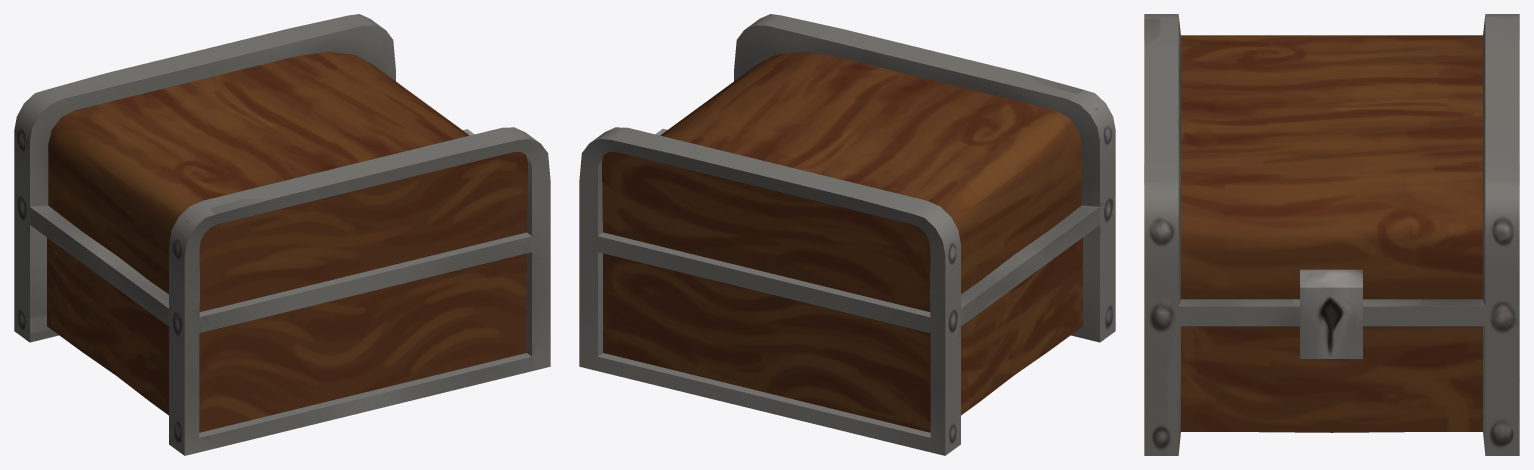
The model's file is unlocked_chest.glb.
The picture shows the model from 3 angles, left to right: view 1: azimuth 30°, elevation 25°; view 2: azimuth 150°, elevation 25°; view 3: azimuth 270°, elevation 25°; orthographic projection. The views are drawn at different scales.
Parts seen in each view (by area): view 1: low_chest; view 2: low_chest; view 3: low_chest.
Part boxes in pixels (x1,y1,x2,y2): low_chest: [14, 14, 550, 455]; low_chest: [579, 14, 1115, 455]; low_chest: [1144, 14, 1519, 455].
Size of the model in its own units: 1.17 by 0.6864 by 0.9001.
Materials: 1 (1 with a texture image).
